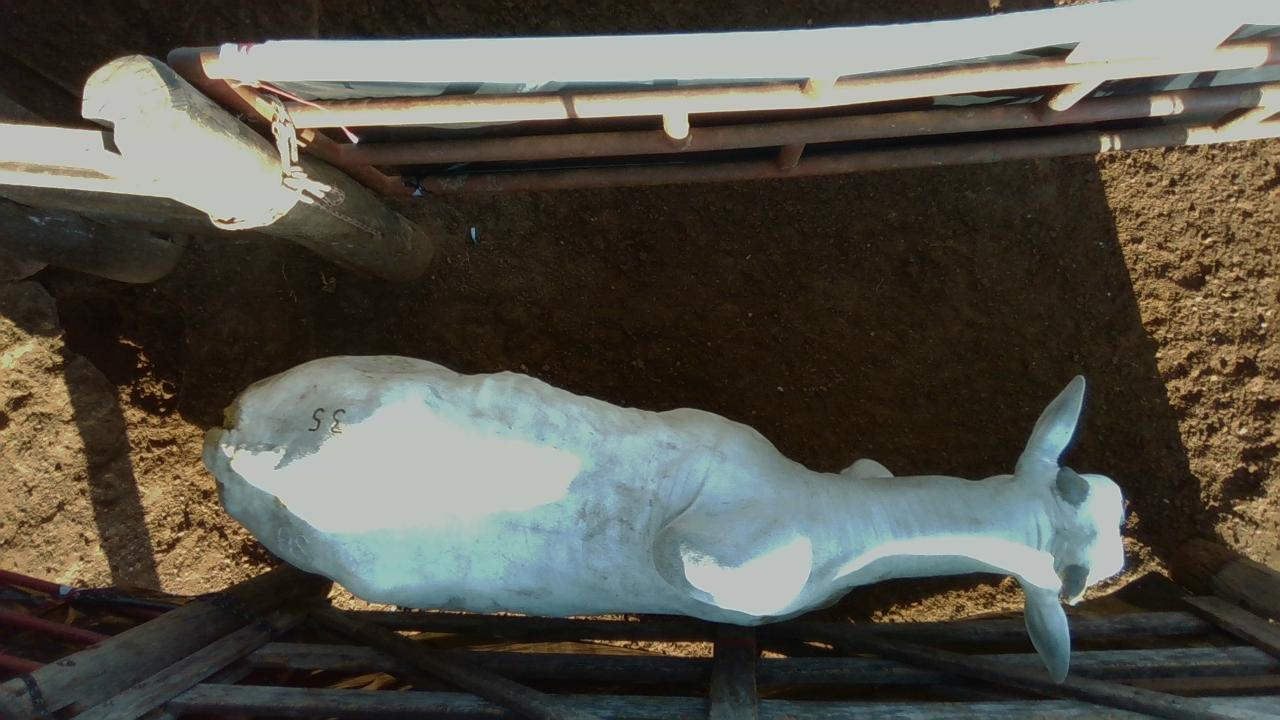cattle: (201, 352, 1128, 684)
